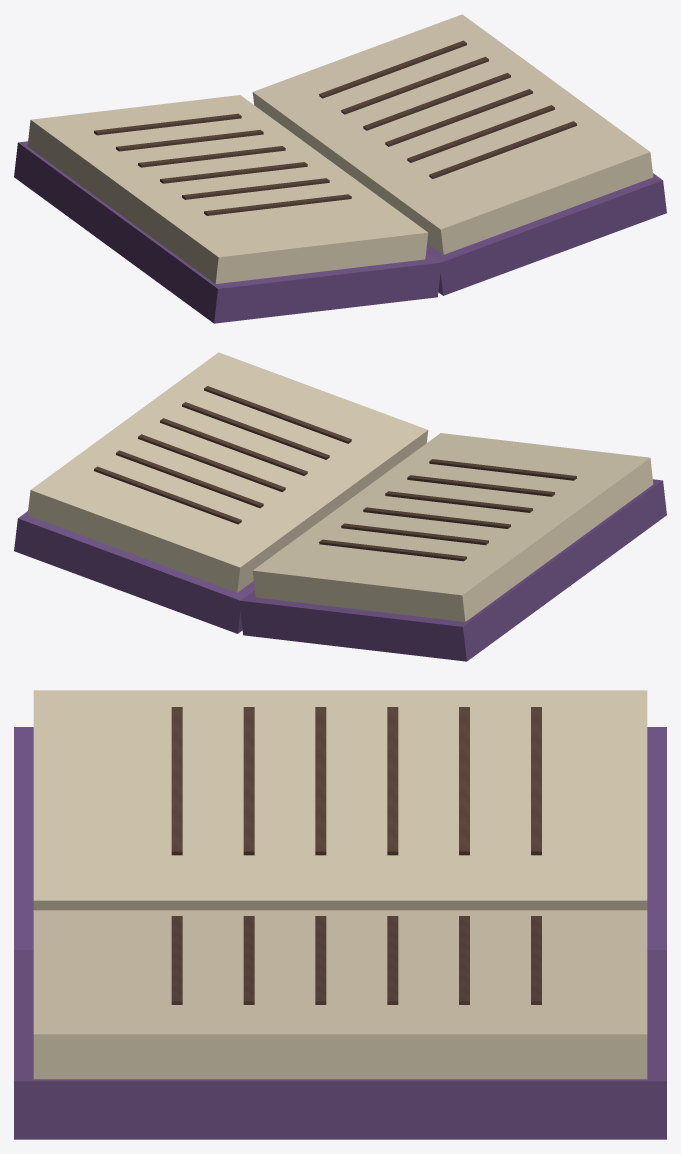
The model's file is floating-tome.glb.
3 views of the same model, one above another, from view 1: azimuth 30°, elevation 25°; view 2: azimuth 150°, elevation 25°; view 3: azimuth 270°, elevation 25° (orthographic). The views are drawn at different scales.
Parts seen in each view (by area): view 1: FloatingTome_paper, FloatingTome_violet, FloatingTome_wood; view 2: FloatingTome_paper, FloatingTome_violet, FloatingTome_wood; view 3: FloatingTome_paper, FloatingTome_violet, FloatingTome_wood.
Part boxes in pixels (x1=…): FloatingTome_paper: x1=27, y1=14, x2=653, y2=283; FloatingTome_violet: x1=14, y1=141, x2=666, y2=323; FloatingTome_wood: x1=94, y1=40, x2=576, y2=215; FloatingTome_paper: x1=27, y1=352, x2=653, y2=621; FloatingTome_violet: x1=14, y1=479, x2=666, y2=661; FloatingTome_wood: x1=94, y1=386, x2=576, y2=561; FloatingTome_paper: x1=33, y1=690, x2=647, y2=1079; FloatingTome_violet: x1=14, y1=727, x2=666, y2=1139; FloatingTome_wood: x1=171, y1=707, x2=541, y2=1004.
Size of the model in its own units: 0.6271 by 0.1226 by 0.48.
3 materials, 1 textured.
